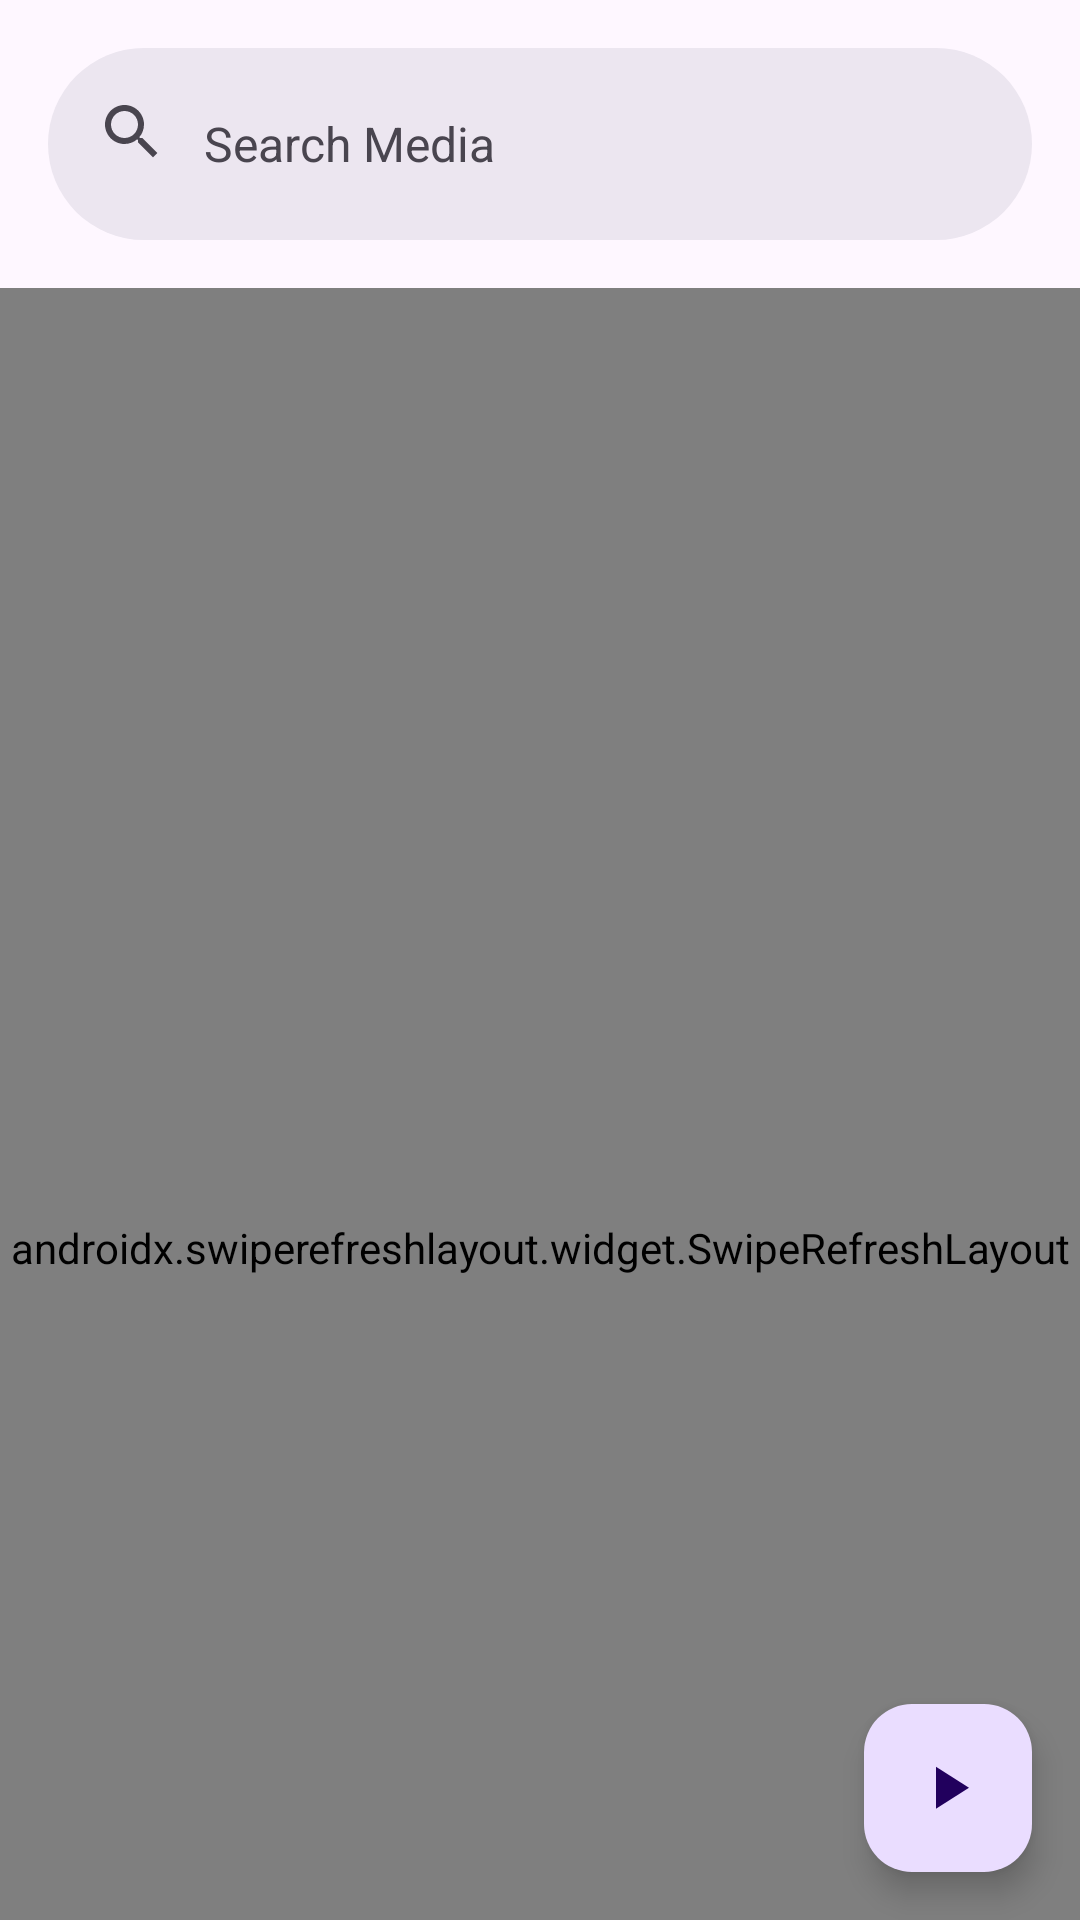

Where icons sit on this 1080*1920 app screen, as (x1, y1, x2, y2):
Play button: (864, 1704, 1032, 1872)
